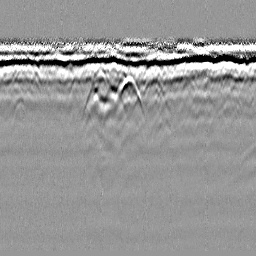cavity: (112, 75, 143, 113)
